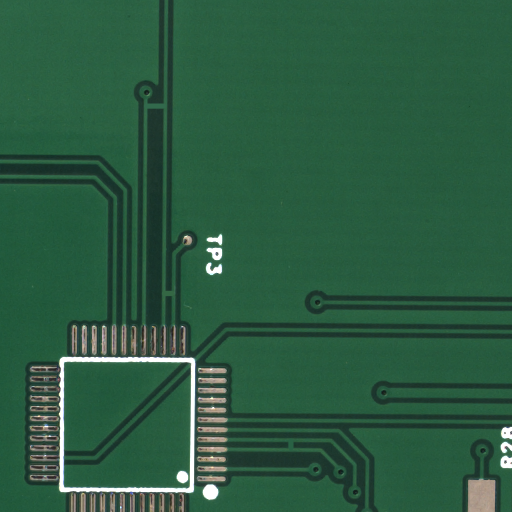Short: (155, 106, 176, 117), (168, 293, 178, 306), (290, 445, 301, 456)
